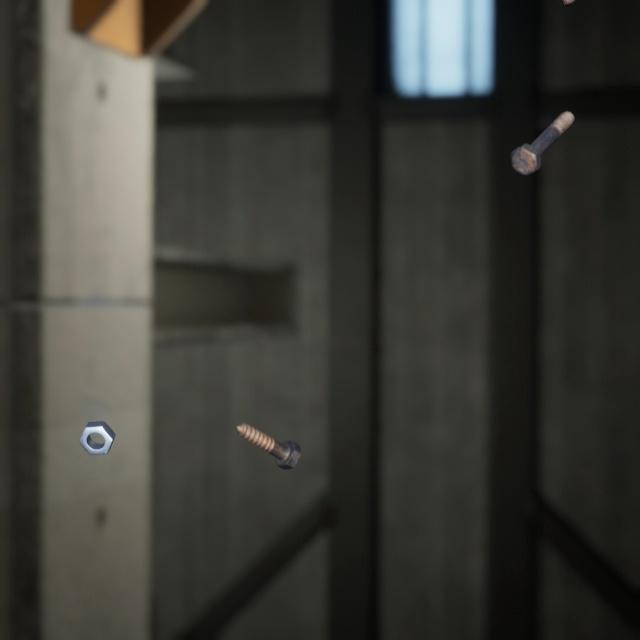bolt: (505, 94, 578, 167), (231, 396, 305, 453)
nut: (74, 396, 120, 439)
